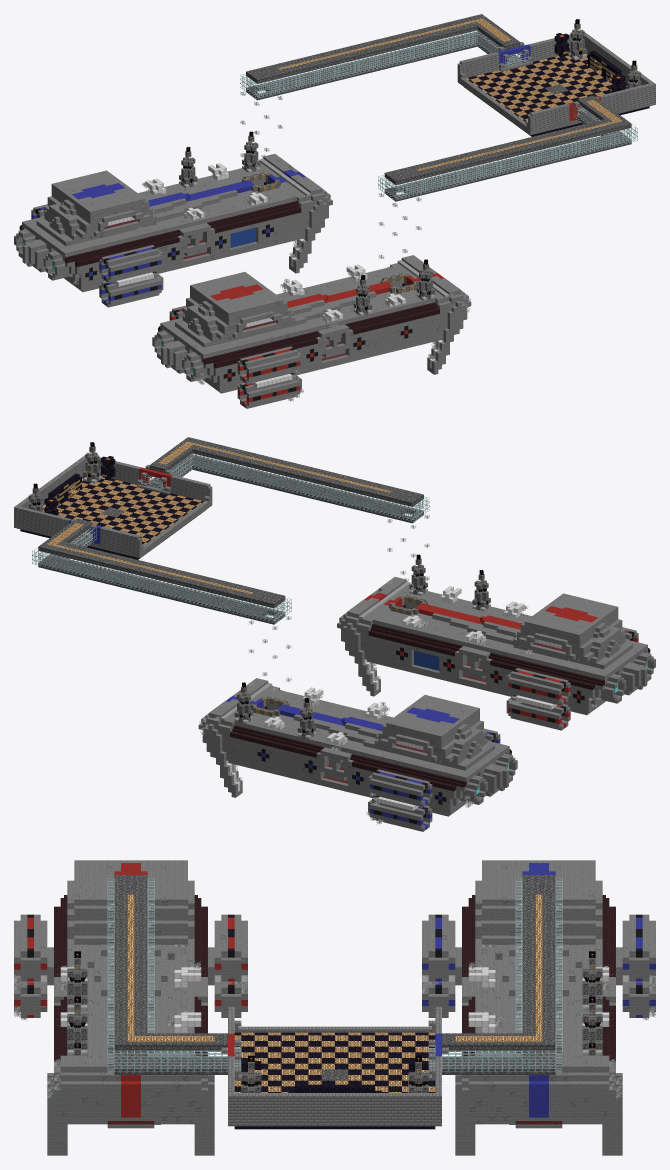
The model's file is minecraft.obj.
The picture shows the model from 3 angles, top to bottom: view 1: azimuth 30°, elevation 25°; view 2: azimuth 150°, elevation 25°; view 3: azimuth 270°, elevation 25°; orthographic projection. The views are drawn at different scales.
Bounding box in the file's own units: 1340 × 480 × 960.
